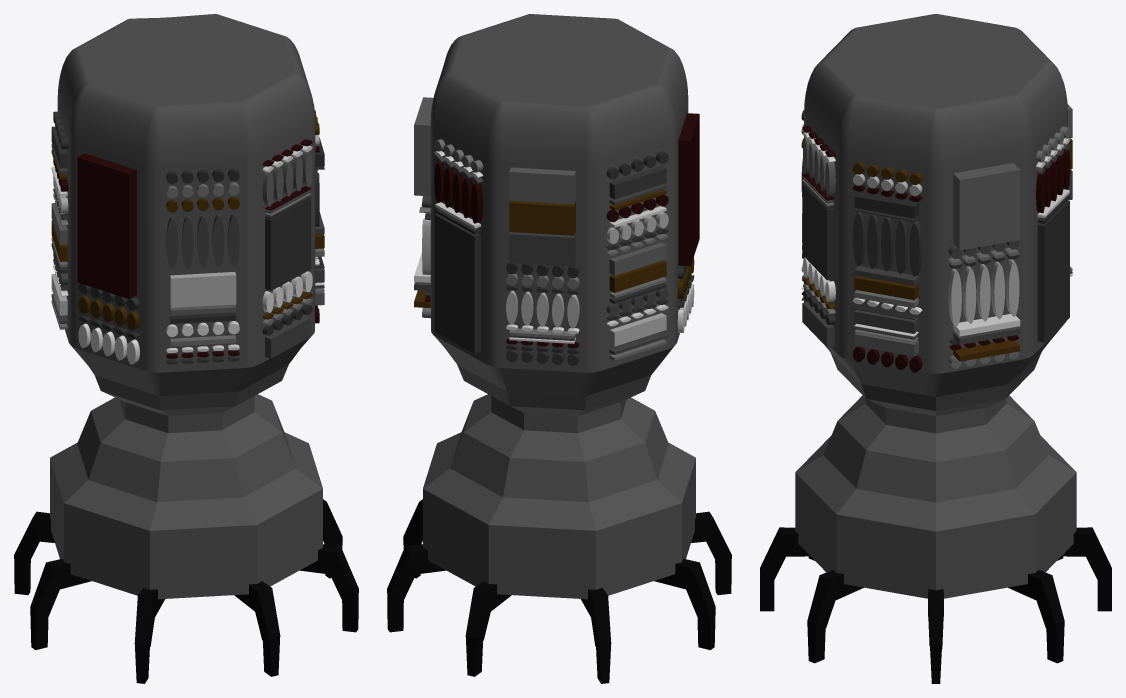
The model's file is SpaceObjects1.4.fbx.
The picture shows the model from 3 angles, left to right: view 1: azimuth 30°, elevation 25°; view 2: azimuth 150°, elevation 25°; view 3: azimuth 270°, elevation 25°; orthographic projection.
Visible parts, largest first — view 1: body2, Feet, Object_16, Object_21, Object_52, Object_315, Object_60, Object_54, Object_51, Object_50, Object_53, Object_48 (+2 smaller); view 2: body2, Feet, Object_19, Object_16, Object_18, Object_142, Object_141, Object_15, Object_128, Object_17, Object_96, Object_120; view 3: body2, Feet, Object_15, Object_19, Object_21, Object_269, Object_257, Object_20, Object_260, Object_208, Object_220, Object_315 (+13 smaller).
Boxes of the visible parts, x1,y1,x2,y2 form: body2: (50,14,322,599); Feet: (14,499,358,683); Object_16: (77,153,136,299); Object_21: (265,198,311,290); Object_52: (170,272,236,307); Object_315: (265,315,311,358); Object_60: (170,335,236,346); Object_54: (170,312,236,323); Object_51: (227,213,239,266); Object_50: (212,214,224,267); Object_53: (170,304,236,315); Object_48: (181,215,193,268); body2: (423,14,695,599); Feet: (387,499,731,683); Object_19: (435,214,480,353); Object_16: (678,113,699,266); Object_18: (509,167,575,204); Object_142: (509,232,575,266); Object_141: (509,201,575,235); Object_15: (414,97,433,196); Object_128: (609,313,666,346); Object_17: (609,242,666,275); Object_96: (609,166,666,199); Object_120: (609,260,666,292); body2: (795,14,1076,598); Feet: (760,527,1111,683); Object_15: (953,163,1020,250); Object_19: (1037,200,1069,342); Object_21: (802,184,834,280); Object_269: (854,192,918,218); Object_257: (854,275,918,300); Object_20: (854,332,918,356); Object_260: (854,309,918,333); Object_208: (953,314,1020,336); Object_220: (953,339,1020,361); Object_315: (802,302,834,347).
Bounding box in the file's own units: 1133 × 1948 × 1133.
